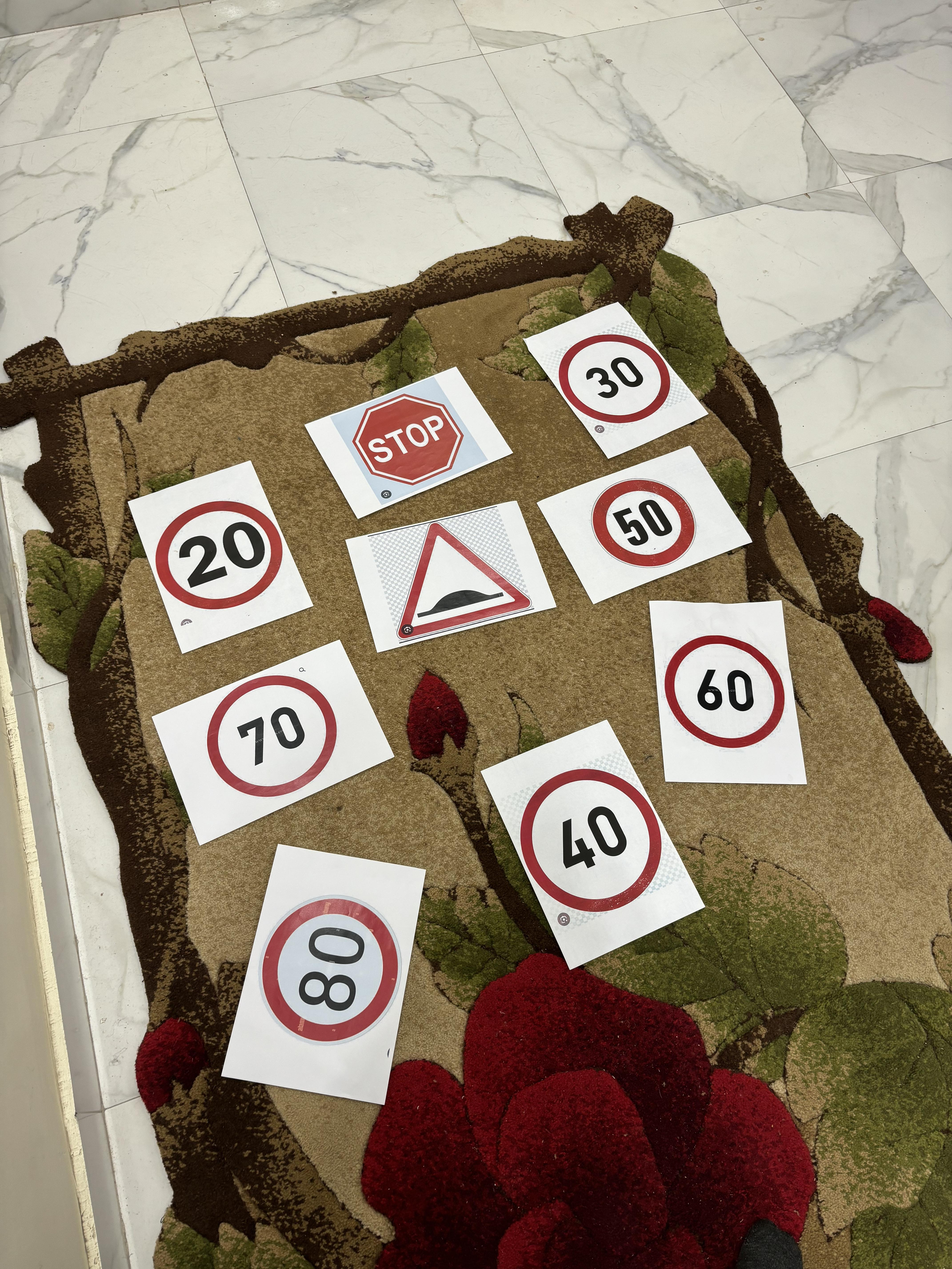20-Speed: (157, 491, 285, 614)
30-speed: (555, 331, 676, 422)
40-Speed: (518, 767, 660, 917)
50-Speed: (591, 478, 696, 572)
60-Speed: (660, 625, 789, 751)
70-Speed: (202, 674, 340, 801)
80-Speed: (253, 896, 403, 1045)
Hump: (392, 523, 532, 637)
Stop: (344, 380, 469, 488)
